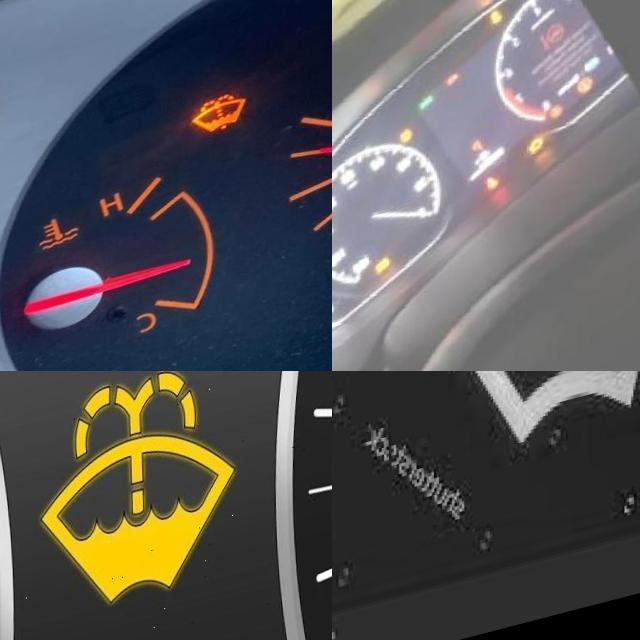High Engine Coolant Temperature: (34, 219, 78, 263)
Washer Fluid: (35, 373, 236, 638), (410, 371, 640, 479)
